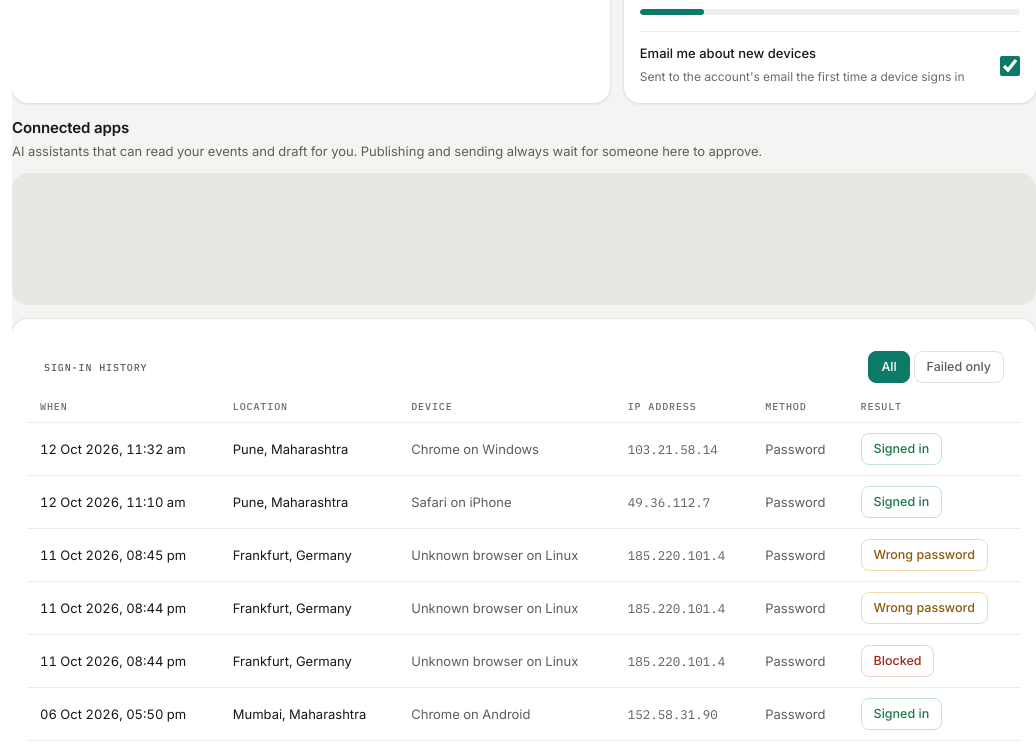
Test case: security › filters the history to failures
The width and height of the screenshot is (1036, 751).
(page scrolled)
Check: the text "Sign-in history" is shown, box [44, 360, 148, 375]
Click the button "Failed only" at {"x": 959, "y": 367}, box [914, 351, 1004, 383]
(page scrolled)
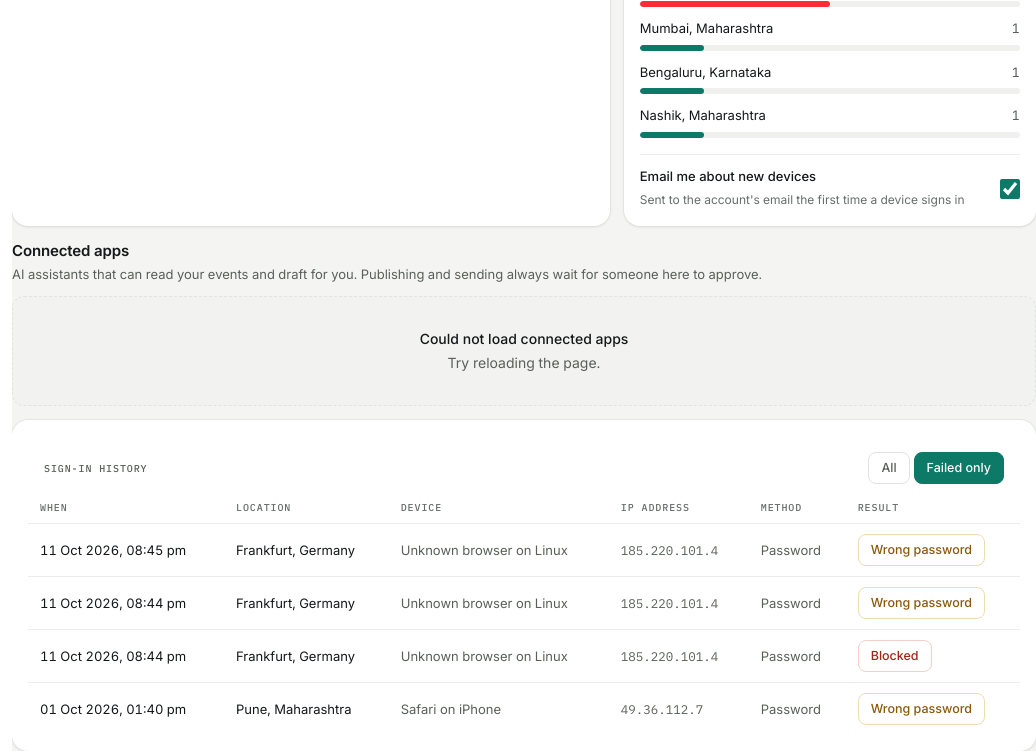
Check: the text "Signed in" is not shown
Check: the number of rows is 5, box [28, 492, 1020, 524]; [28, 524, 1020, 577]; [28, 577, 1020, 630]; [28, 630, 1020, 683]; [28, 683, 1020, 735]
